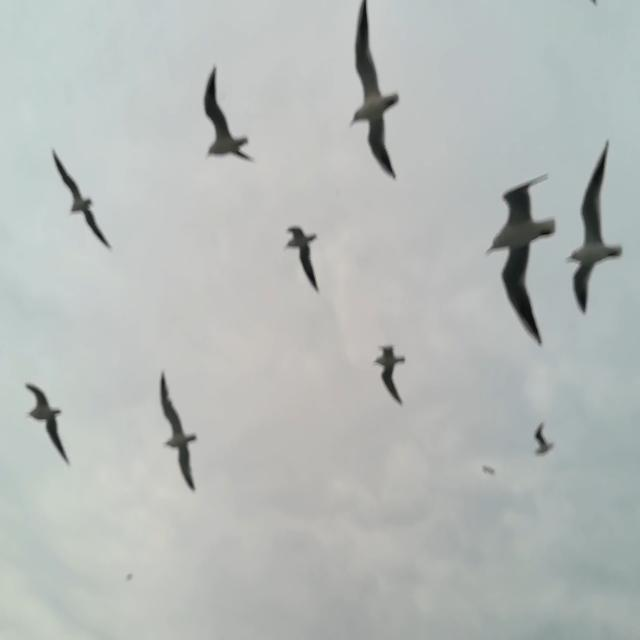bird: (485, 172, 557, 347), (563, 138, 623, 318), (348, 0, 401, 182), (50, 149, 114, 251), (157, 372, 200, 494), (201, 66, 254, 162), (24, 385, 73, 466), (283, 227, 319, 293), (374, 344, 408, 406), (532, 419, 554, 459), (478, 463, 498, 478), (122, 572, 134, 584), (589, 0, 600, 8)
